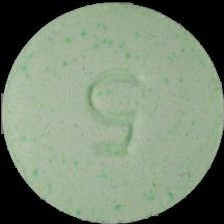55154-8270: (0, 0, 224, 224)
